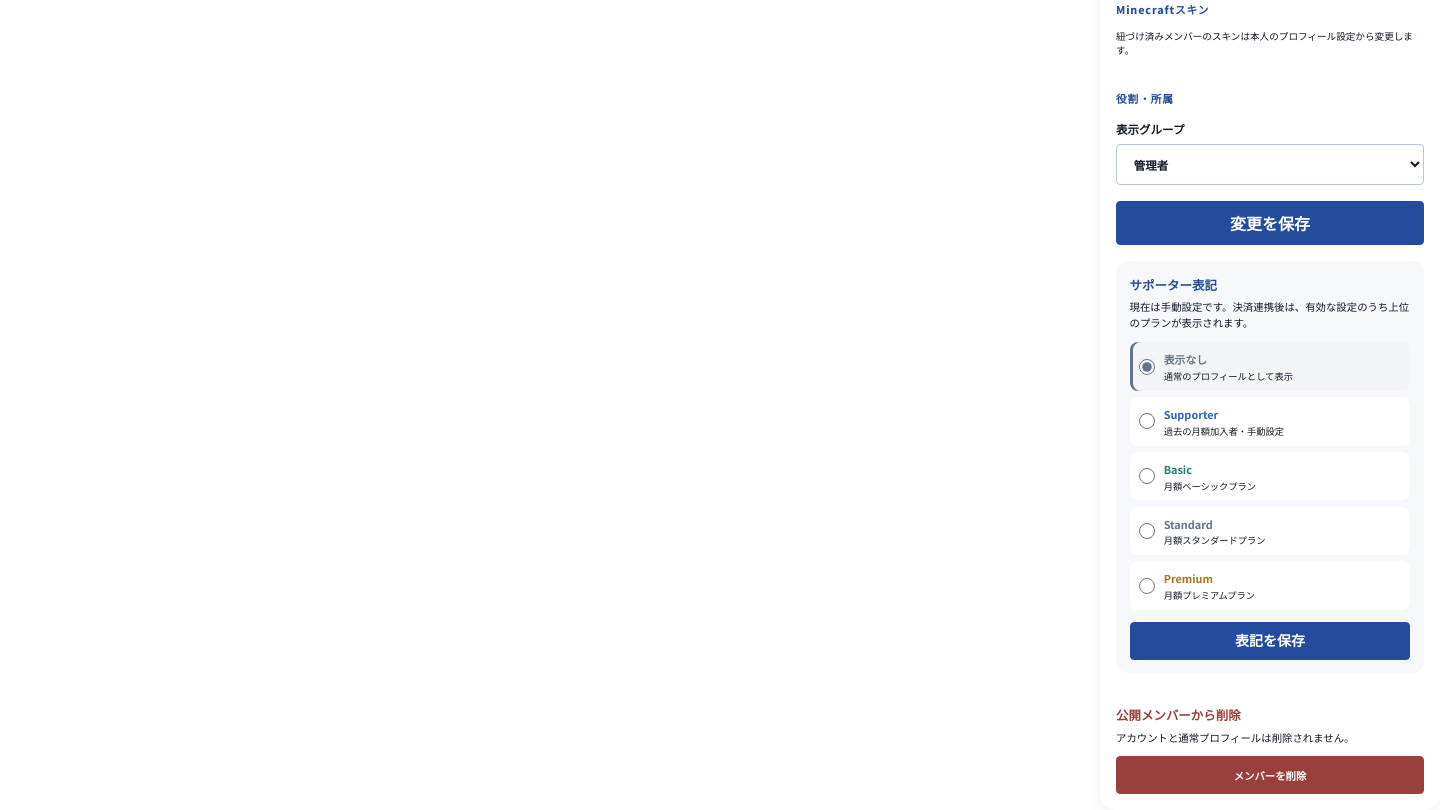
Test: OrganizationEditor › deletes only the public member and clears local parent references
(page scrolled)
Click the button "メンバーを削除": click(1270, 775) 1116,756 -> 1424,794
(page scrolled)
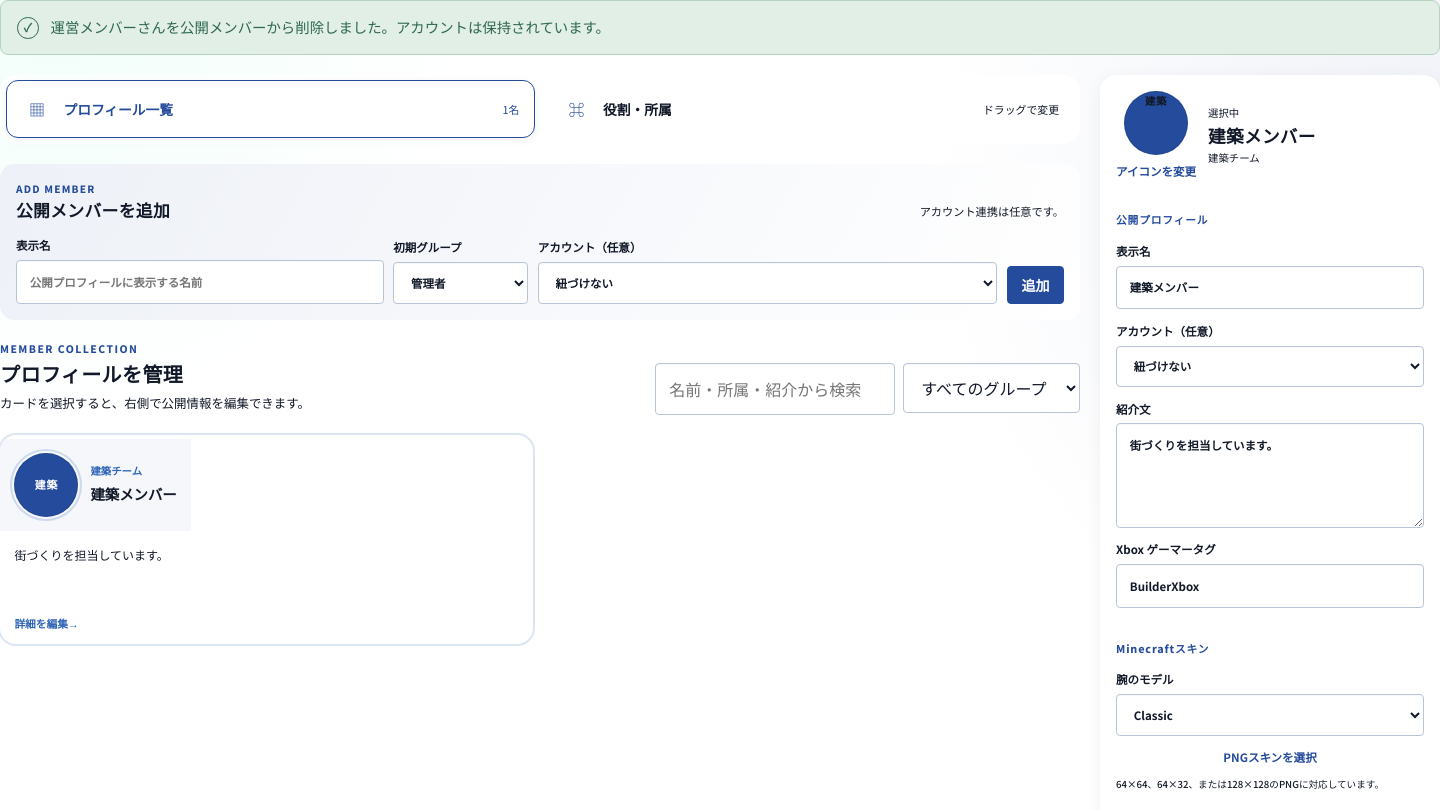
Check: the heading "建築メンバー" is shown, box 1208,124 -> 1316,148
Check: the text "アカウントは保持されています" is shown, box 51,16 -> 610,37
